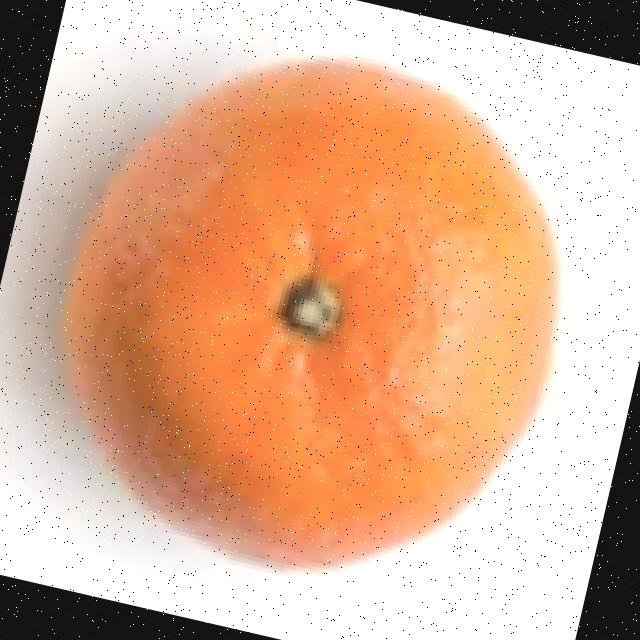orange: (14, 4, 619, 621)
